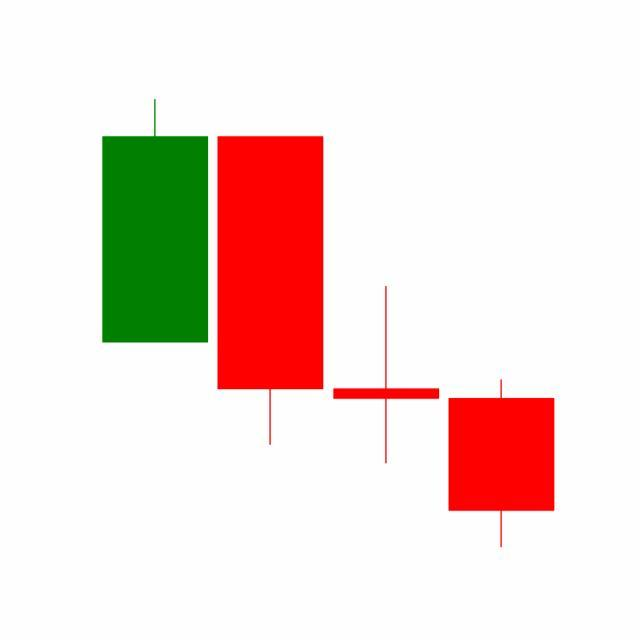Spinning Top: (329, 284, 445, 466)
